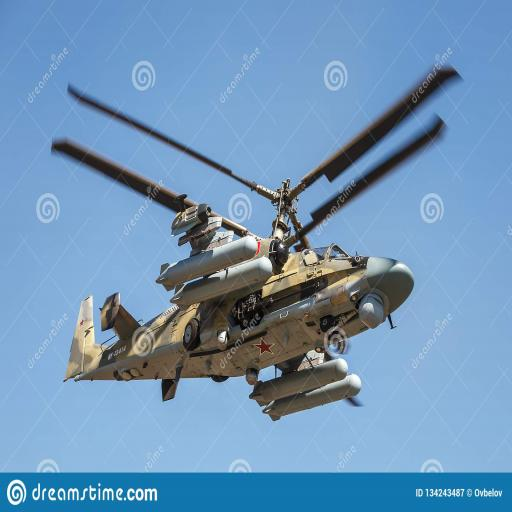helicopter: (51, 59, 464, 421)
